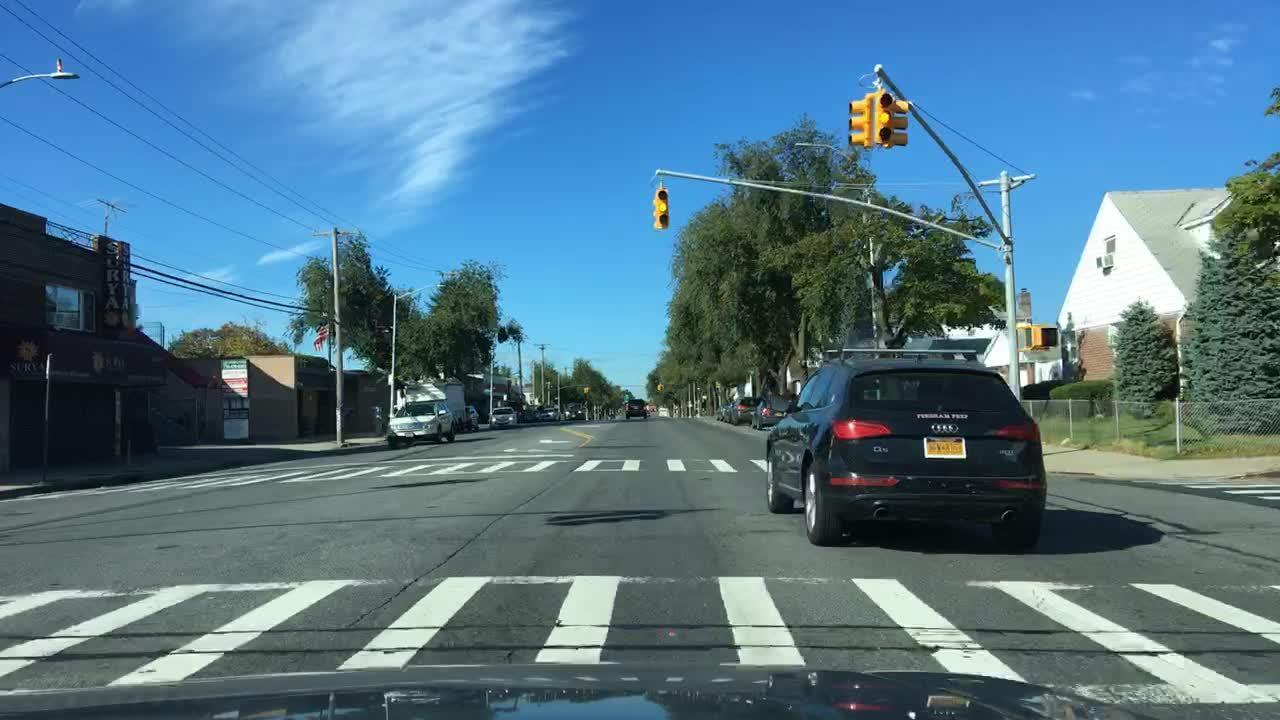Audi: (926, 420, 963, 438)
